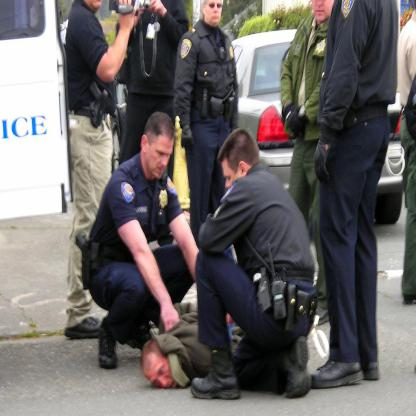face: (147, 135, 175, 180), (222, 160, 240, 196), (313, 1, 336, 22), (206, 1, 222, 24)
